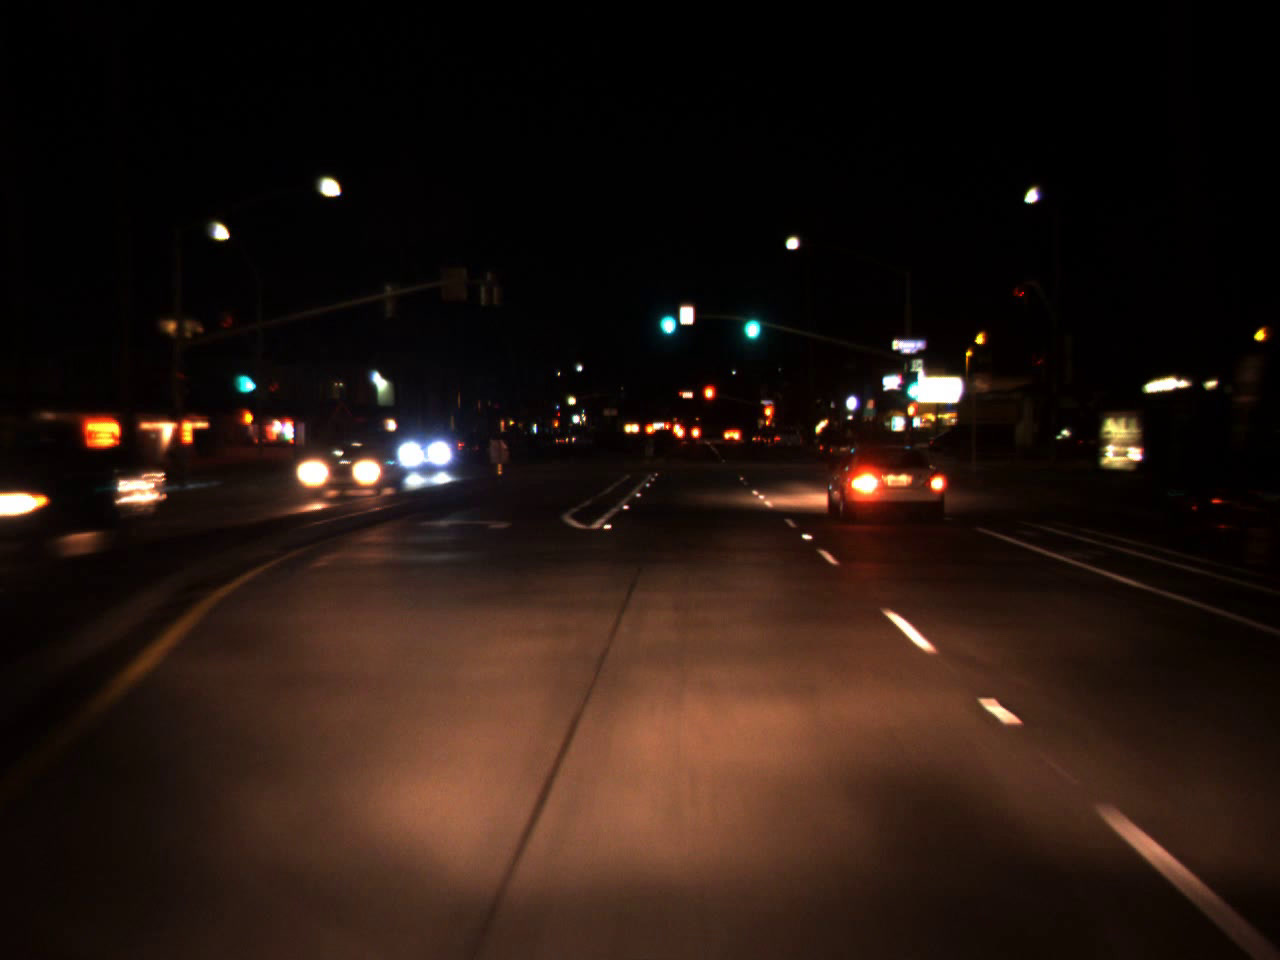go: (739, 298, 764, 346), (655, 294, 678, 339), (234, 356, 253, 398), (903, 364, 919, 403)
stop: (702, 382, 715, 417), (762, 403, 775, 435)
